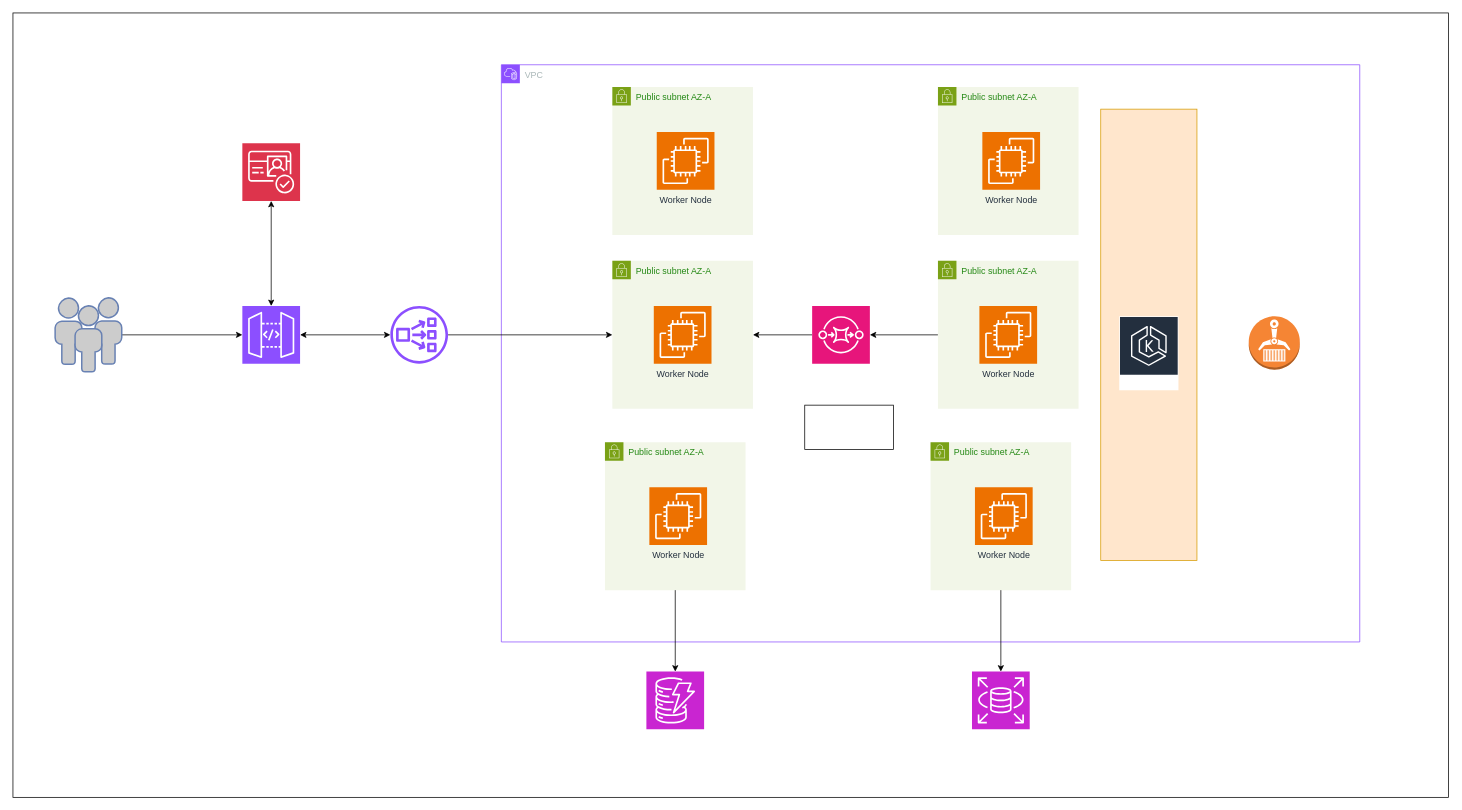
This 1462x810 diagram has some shape labels left out. The shapes that lost their labels are listed below. From the top down, each one's centre as x and y in pixels, then its label:
point 840,334: SQS Queue
point 1148,353: Amazon EKS
point 1274,343: ECR Docker Images
point 1000,700: Amazon RDS DB
